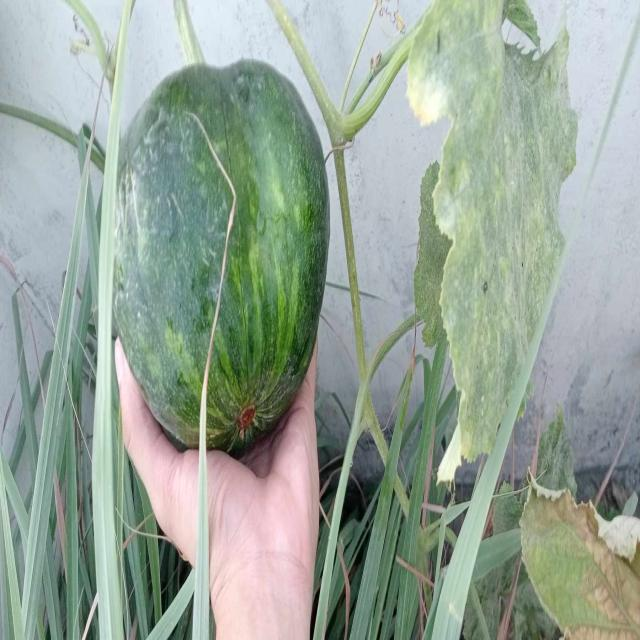squash: (100, 52, 334, 462)
